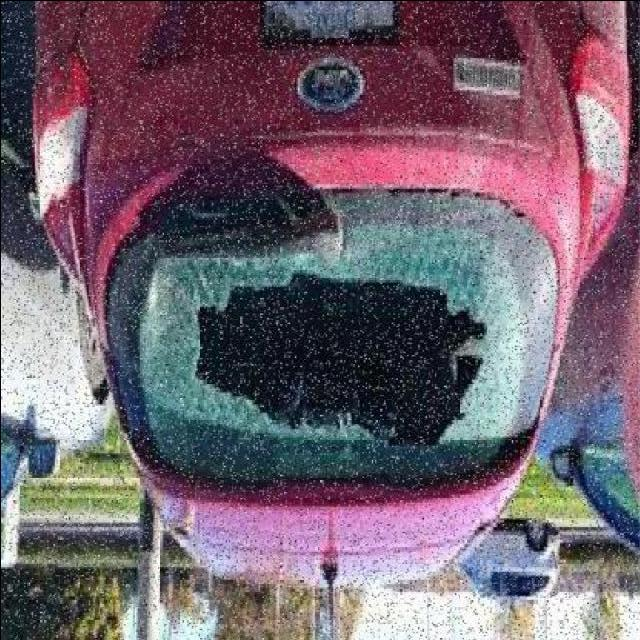Rear-windscreen-Damage: (104, 178, 534, 484)
